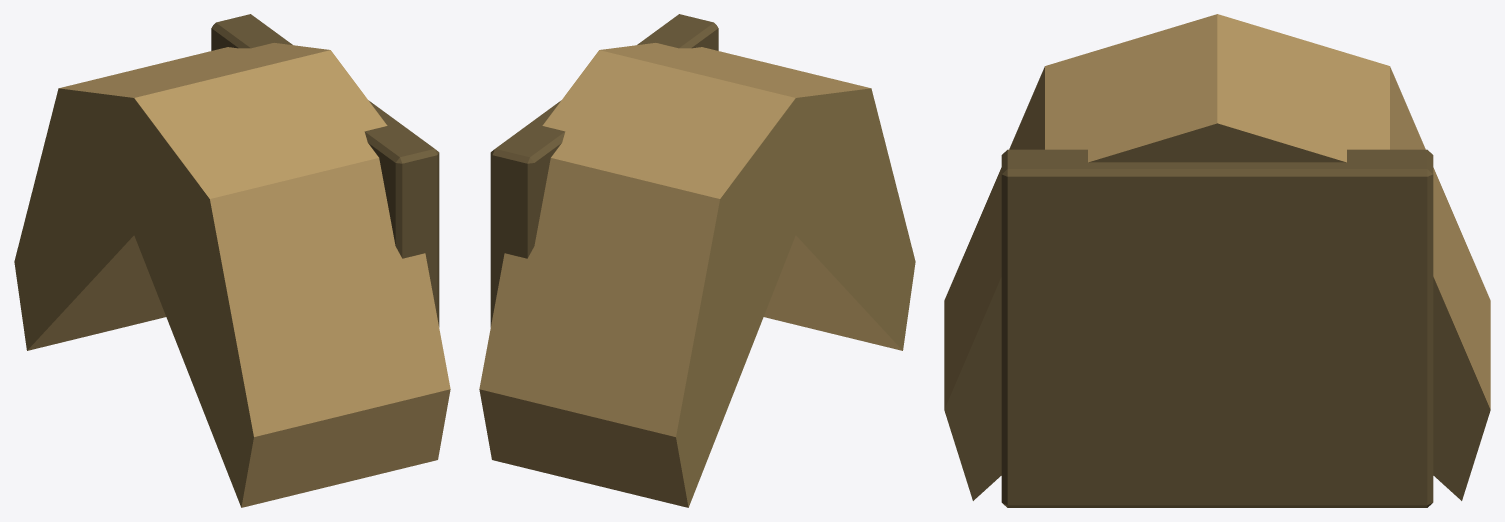
The model's file is mdvl_village_thatch_ridge_end_01.glb.
3 views of the same model, side by side, from view 1: azimuth 30°, elevation 25°; view 2: azimuth 150°, elevation 25°; view 3: azimuth 270°, elevation 25° (orthographic). The views are drawn at different scales.
Visible parts, largest first — view 1: mdvl_village_thatch_ridge_end_01; view 2: mdvl_village_thatch_ridge_end_01; view 3: mdvl_village_thatch_ridge_end_01.
Boxes of the visible parts, x1,y1,x2,y2 form: mdvl_village_thatch_ridge_end_01: [14, 14, 450, 507]; mdvl_village_thatch_ridge_end_01: [479, 14, 915, 507]; mdvl_village_thatch_ridge_end_01: [944, 14, 1490, 507].
Size of the model in its own units: 0.39 by 0.58 by 0.76.
1 material, 1 textured.
